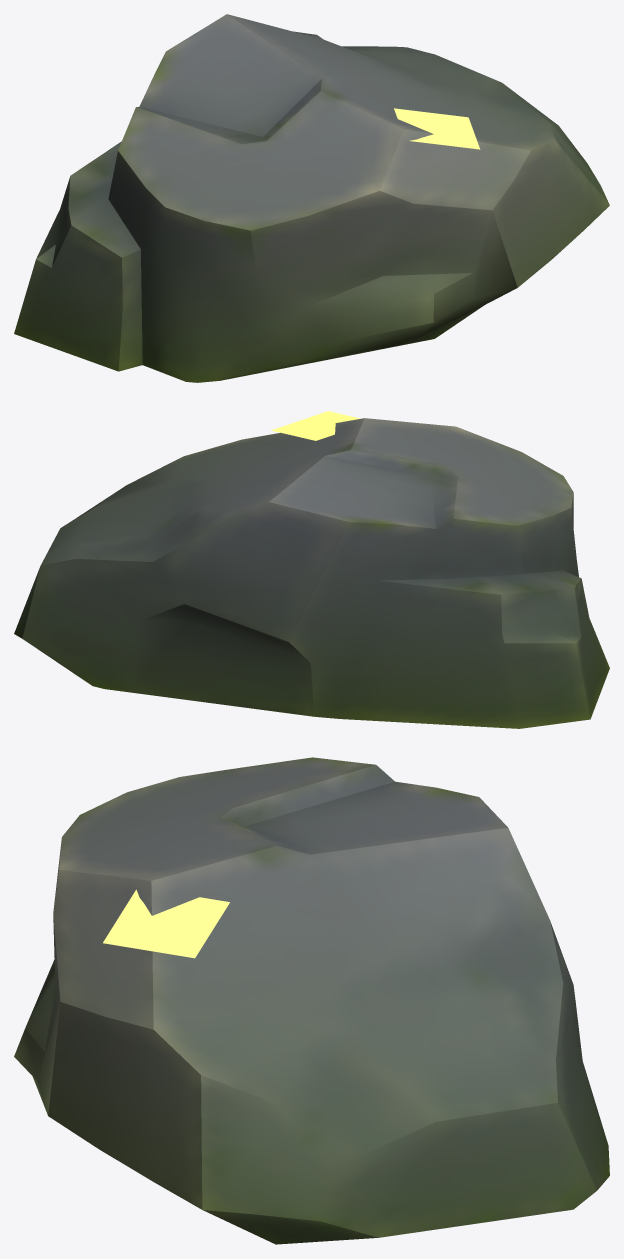
Rendered from burrow.glb.
The picture shows the model from 3 angles, top to bottom: view 1: azimuth 30°, elevation 25°; view 2: azimuth 150°, elevation 25°; view 3: azimuth 270°, elevation 25°; orthographic projection. The views are drawn at different scales.
Parts seen in each view (by area): view 1: Rock_Medium_2, Flag; view 2: Rock_Medium_2, Flag; view 3: Rock_Medium_2, Flag.
Part boxes in pixels (box(x1,y1,x2,y2)): Rock_Medium_2: box(14, 14, 609, 382); Flag: box(394, 108, 480, 149); Rock_Medium_2: box(14, 418, 609, 728); Flag: box(271, 411, 360, 440); Rock_Medium_2: box(14, 757, 609, 1244); Flag: box(103, 889, 229, 958).
Bounding box in the file's own units: 3.41 × 1.35 × 2.43.
Materials: 5 (3 with a texture image).
